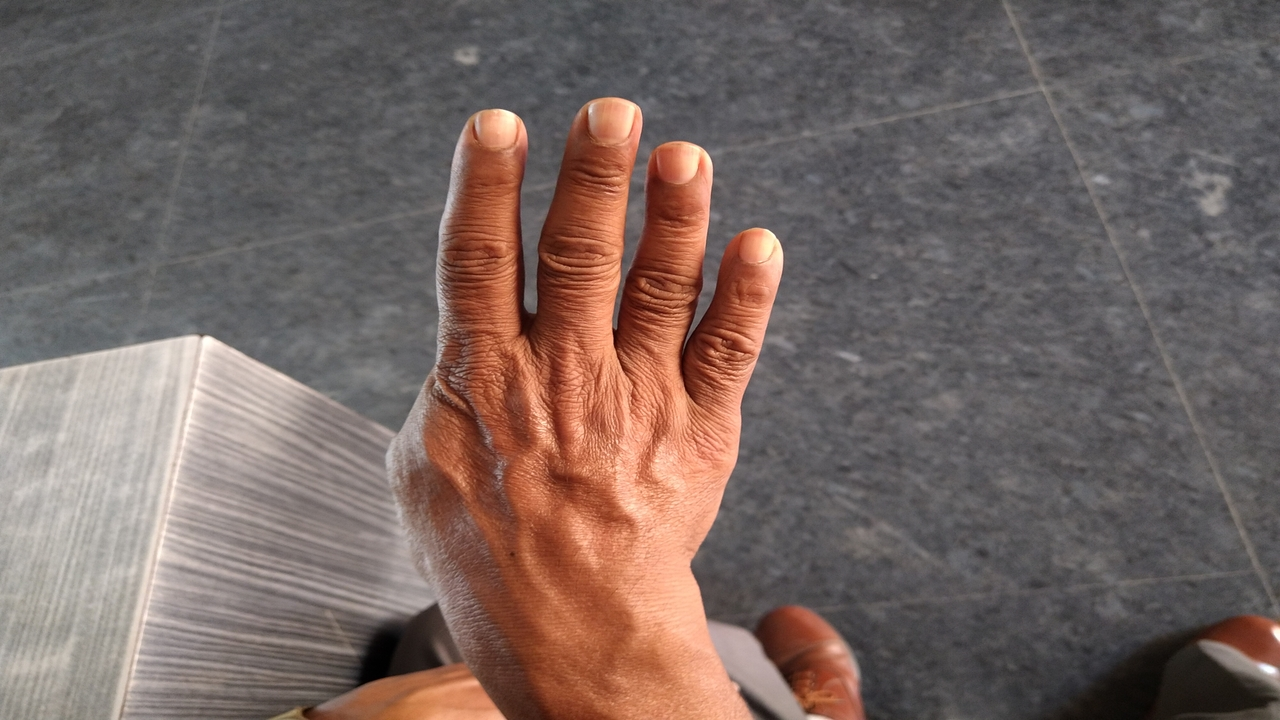fingertip: (560, 92, 648, 150), (638, 134, 716, 194), (722, 218, 788, 282), (454, 104, 526, 162)
